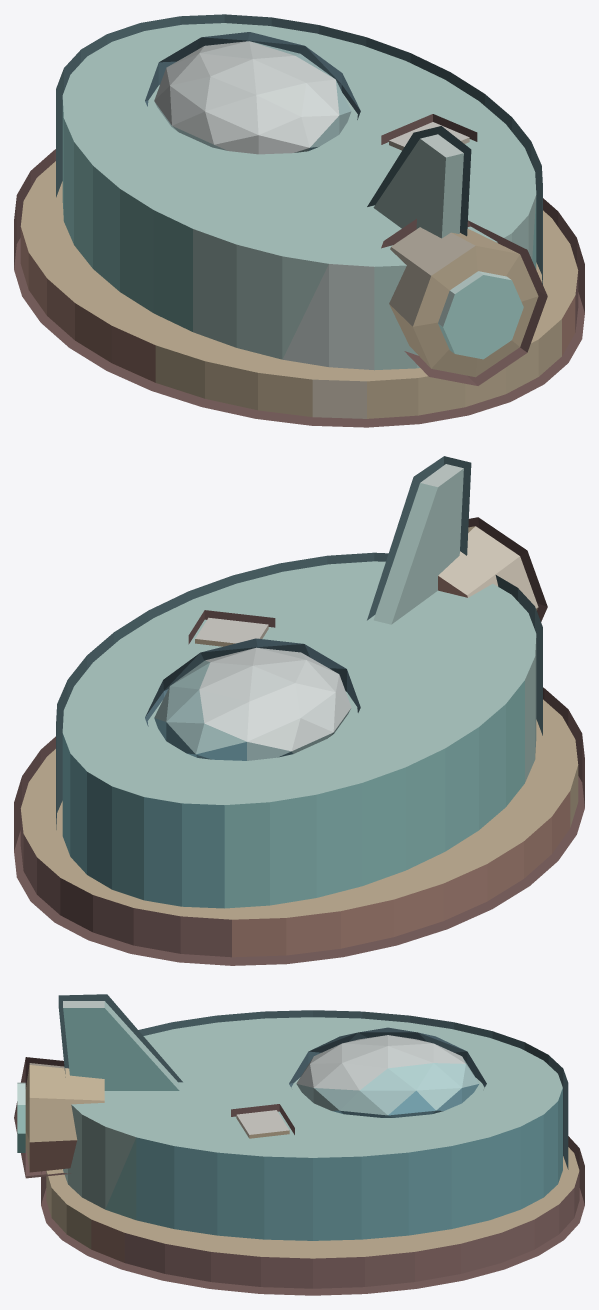
Rendered from ship_hover_sled_c2.glb.
The picture shows the model from 3 angles, top to bottom: view 1: azimuth 30°, elevation 25°; view 2: azimuth 150°, elevation 25°; view 3: azimuth 270°, elevation 25°; orthographic projection. The views are drawn at different scales.
Visible parts, largest first — view 1: ship_hover_sled_c2; view 2: ship_hover_sled_c2; view 3: ship_hover_sled_c2.
Boxes of the visible parts, left/top/right/bottom form: ship_hover_sled_c2: left=14, top=14, right=584, bottom=427; ship_hover_sled_c2: left=14, top=456, right=584, bottom=965; ship_hover_sled_c2: left=14, top=994, right=584, bottom=1295.
Size of what is drawn, in the model's own units: 5.13 by 2.73 by 6.86.
